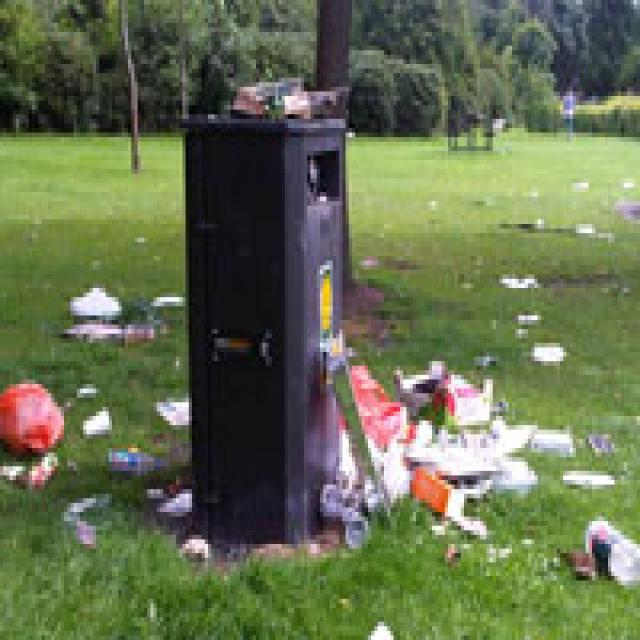garbage: (339, 356, 506, 544), (58, 278, 164, 356), (560, 494, 637, 594), (0, 365, 54, 461), (230, 64, 326, 110)
